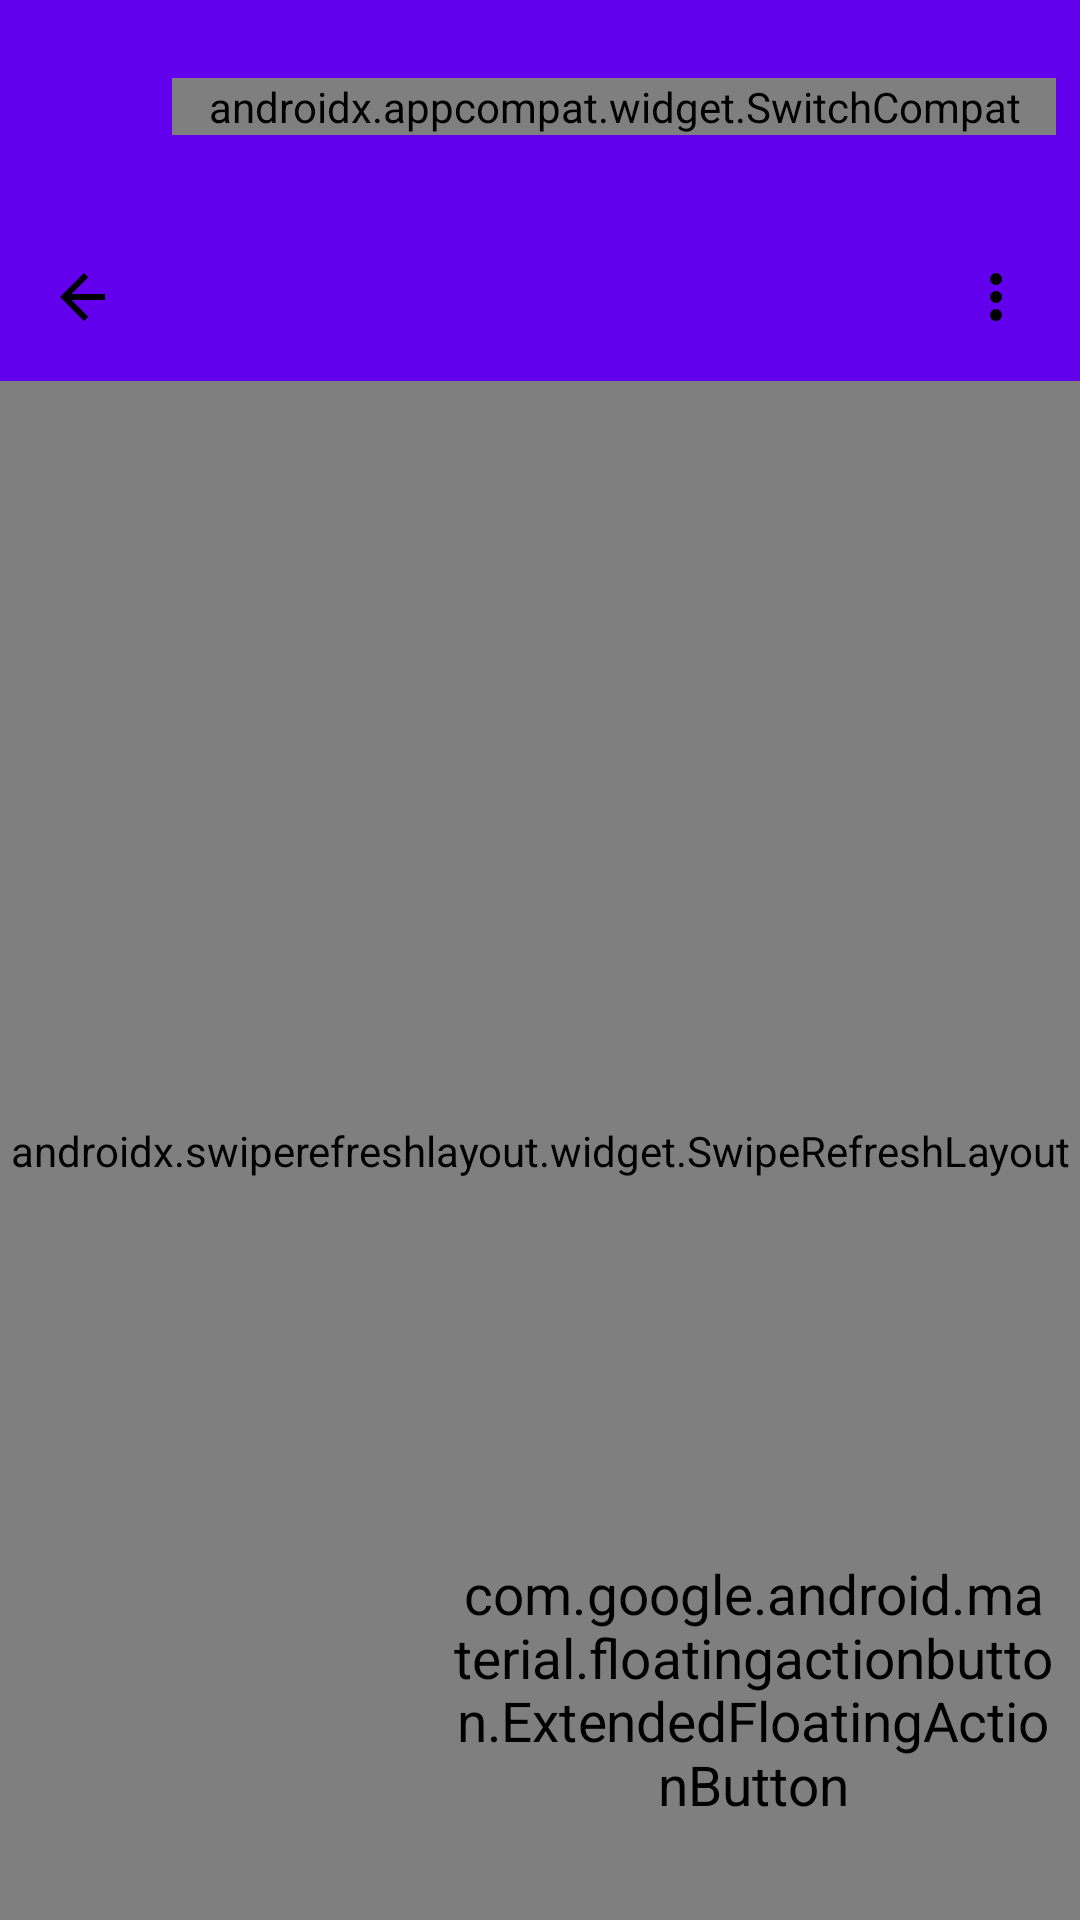

Screen size 1080 x 1920. Icon name, then its center in pixels as [x,y]:
back: [82,297]
more: [996,297]
